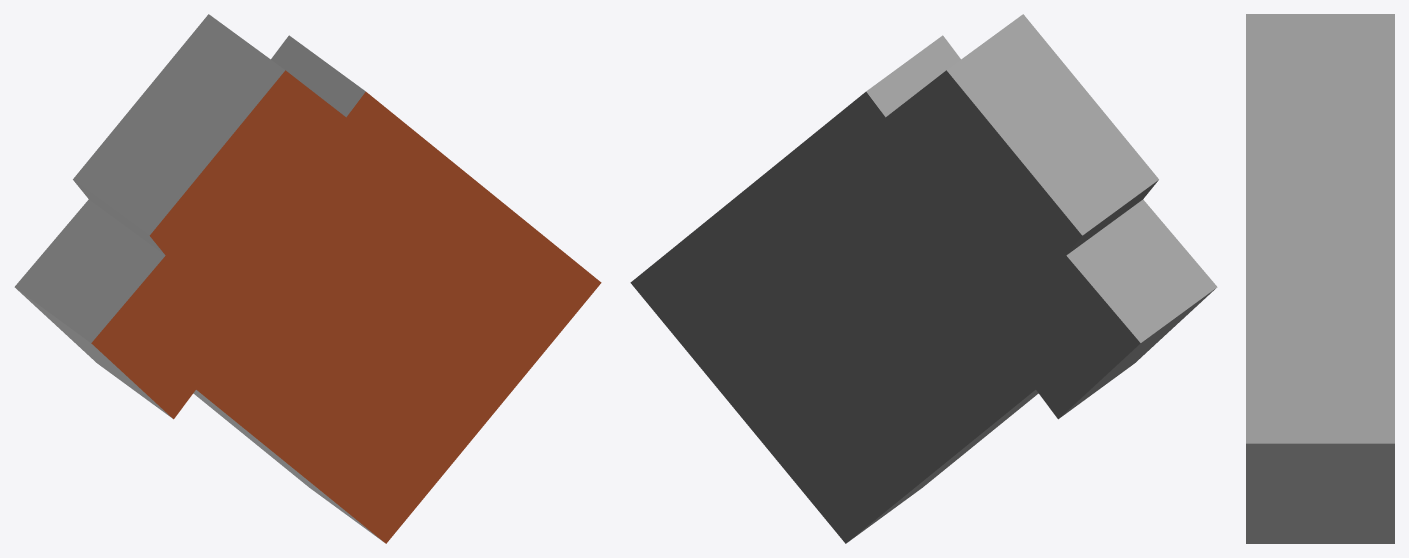
File: construction_0917_assumed_A_Casa_h6m.obj
3 renders of one model, left to right at view 1: azimuth 30°, elevation 25°; view 2: azimuth 150°, elevation 25°; view 3: azimuth 270°, elevation 25°, orthographic. The views are drawn at different scales.
Parts seen in each view (by area): view 1: construction_0917_assumed_A_Casa; view 2: construction_0917_assumed_A_Casa; view 3: construction_0917_assumed_A_Casa.
Boxes of the visible parts, x1=… form: construction_0917_assumed_A_Casa: x1=14, y1=14, x2=601, y2=543; construction_0917_assumed_A_Casa: x1=630, y1=14, x2=1217, y2=543; construction_0917_assumed_A_Casa: x1=1246, y1=14, x2=1394, y2=543.
Size of the model in its own units: 23 by 21.46 by 6.
